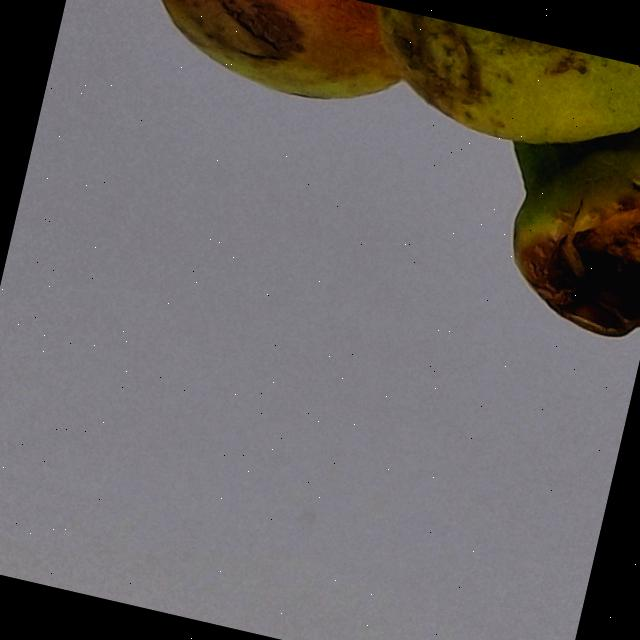mangosteen: (8, 0, 640, 392)
